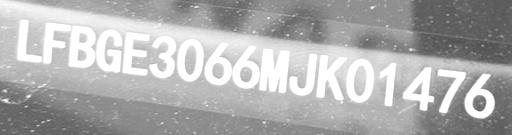letter: (400, 65, 436, 114), (434, 65, 468, 116), (463, 71, 497, 120), (258, 44, 290, 93), (316, 52, 348, 101), (202, 40, 234, 85), (120, 29, 150, 76), (230, 43, 260, 90), (287, 50, 317, 97), (42, 20, 72, 65), (174, 37, 204, 82), (345, 58, 375, 103), (15, 16, 43, 63), (68, 23, 96, 70), (95, 27, 123, 72), (148, 34, 176, 79), (378, 59, 396, 108)
